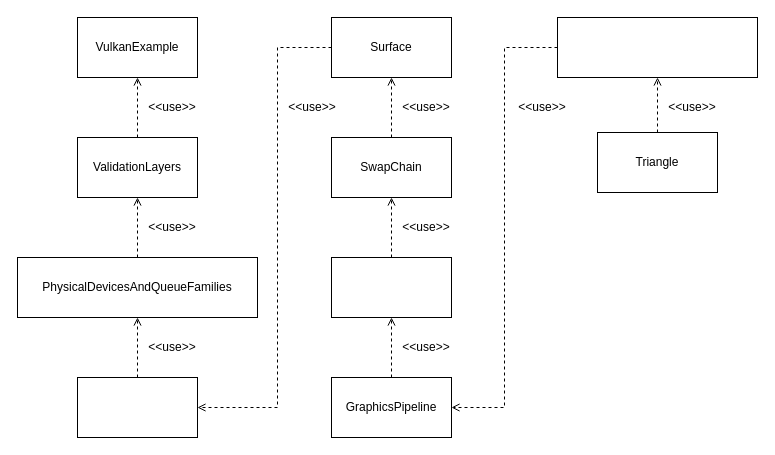
Some shapes in this 775 by 455 pixel diagram are drawn without their labels. Each missing label, with the centre of its shape:
"FrameAndCommandBuffers" belongs at point (657, 47).
"ImageViews" belongs at point (391, 287).
"LogicalDevice" belongs at point (137, 407).
